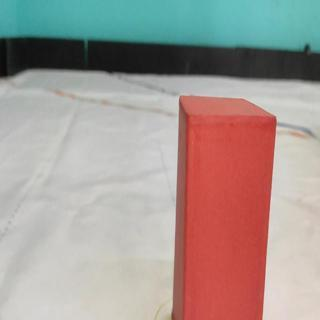redbox: (171, 93, 277, 320)
